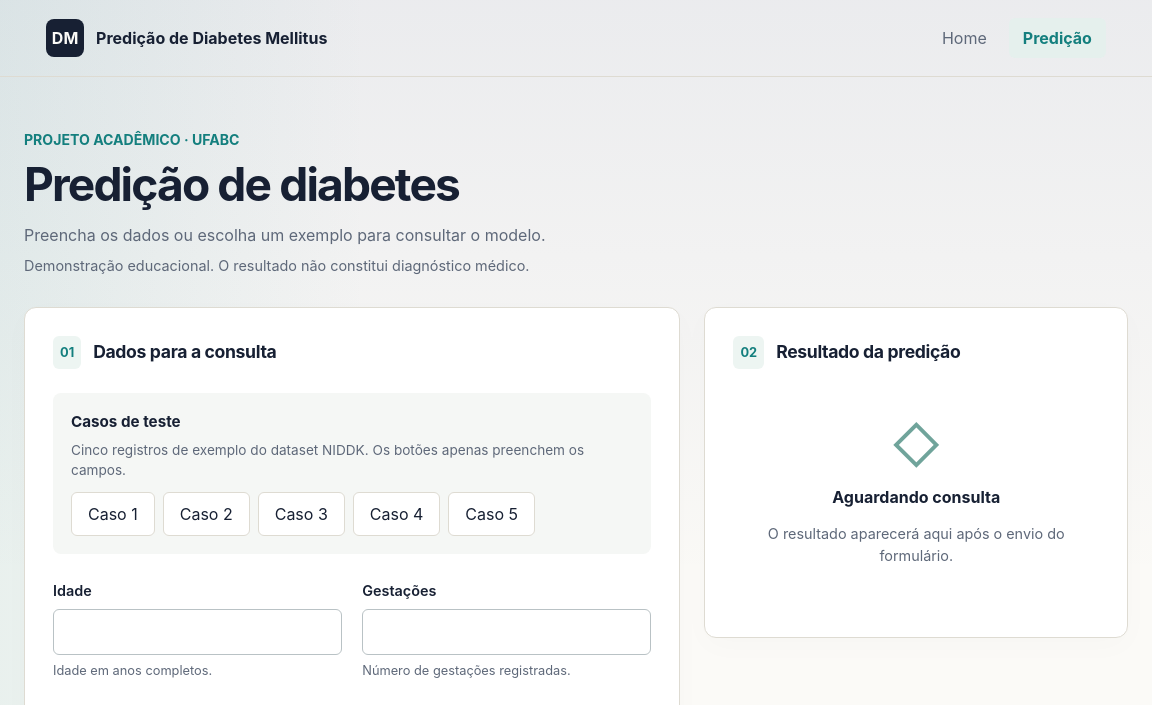
Test: Formulário de predição › handles HTTP 503 without stale results
Click the button "Caso 1" at (113, 514), box x1=71 y1=492 x2=155 y2=536
(page scrolled)
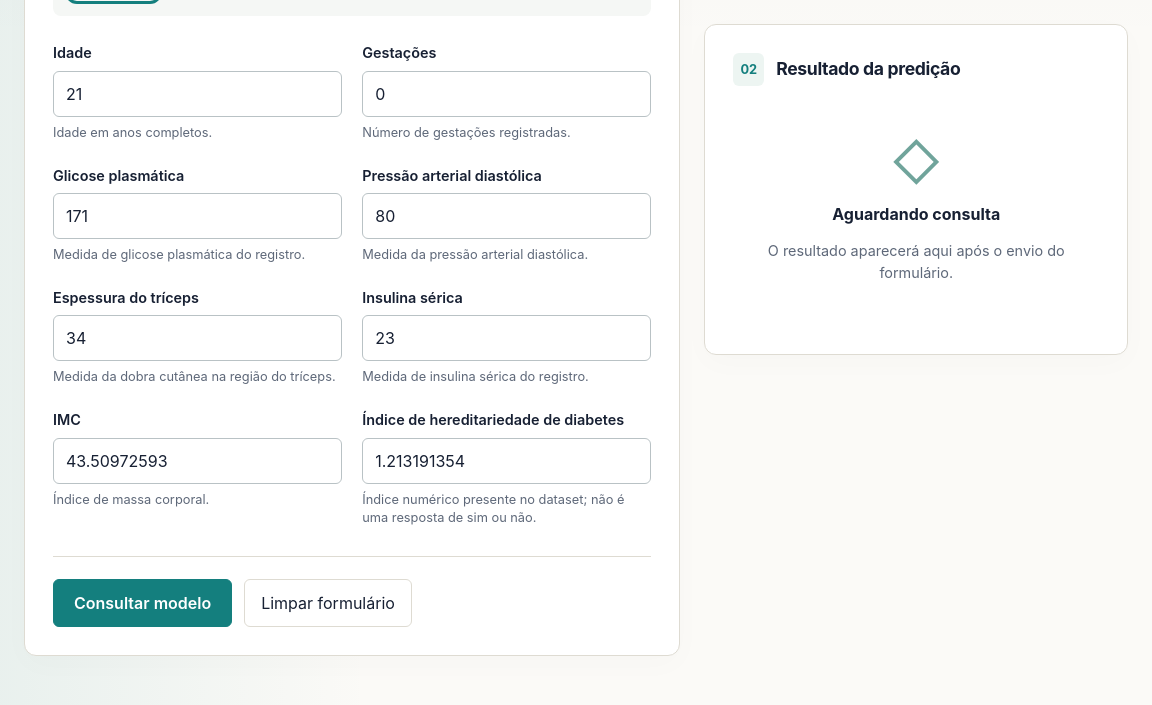
Click the button "Consultar modelo" at (143, 603), box x1=53 y1=579 x2=232 y2=627
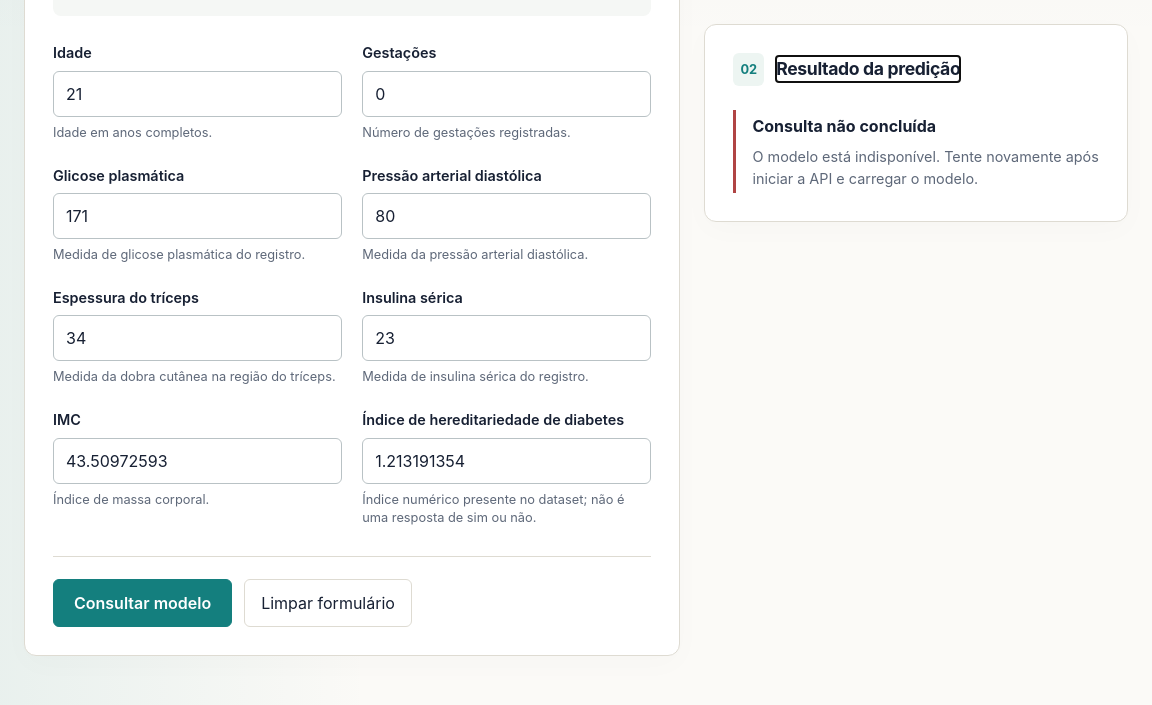
Check: the message shows "Consulta não concluída", box x1=752 y1=116 x2=936 y2=136
